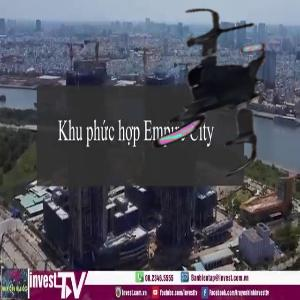drone: (112, 3, 295, 186)
